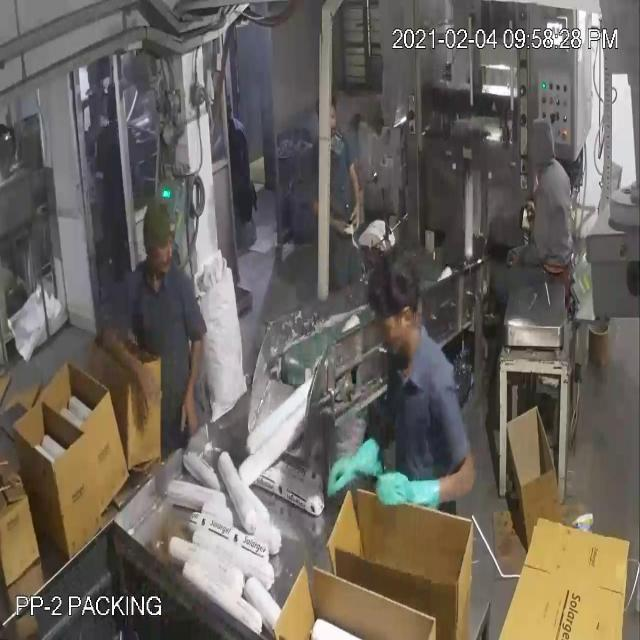No_Gloves: (23, 58, 430, 491)
